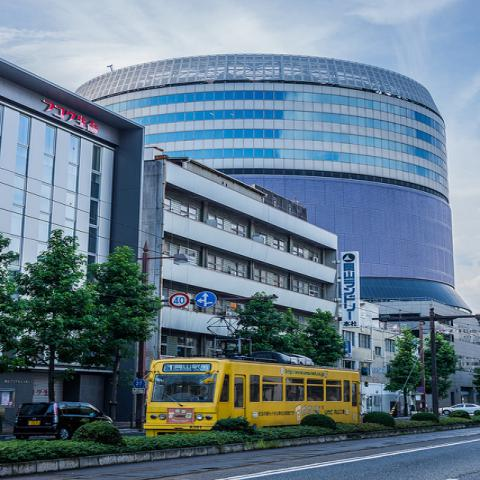bus: (146, 357, 366, 436)
car: (12, 402, 115, 440), (437, 402, 479, 416)
